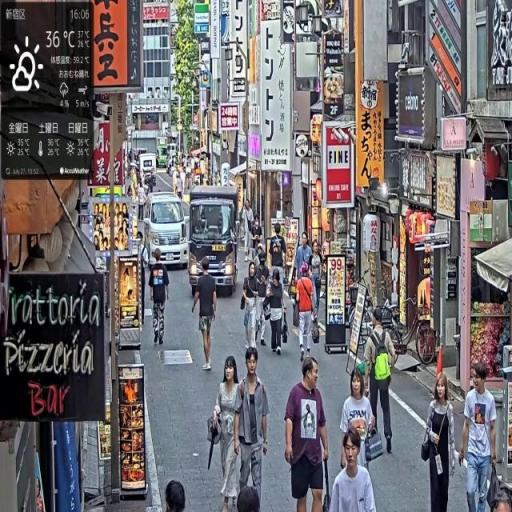person: (285, 353, 330, 512), (459, 359, 498, 512), (208, 356, 245, 512), (236, 346, 271, 507), (422, 371, 459, 512), (364, 309, 399, 457), (340, 367, 376, 475), (331, 428, 377, 512), (193, 256, 220, 374), (294, 264, 317, 364), (149, 248, 171, 341), (242, 261, 264, 350), (310, 240, 324, 324), (165, 480, 188, 512), (244, 200, 256, 260)
